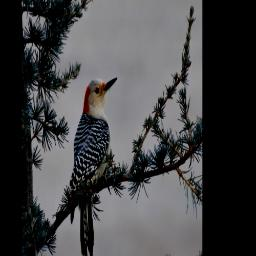Woodpecker: (69, 77, 117, 256)
